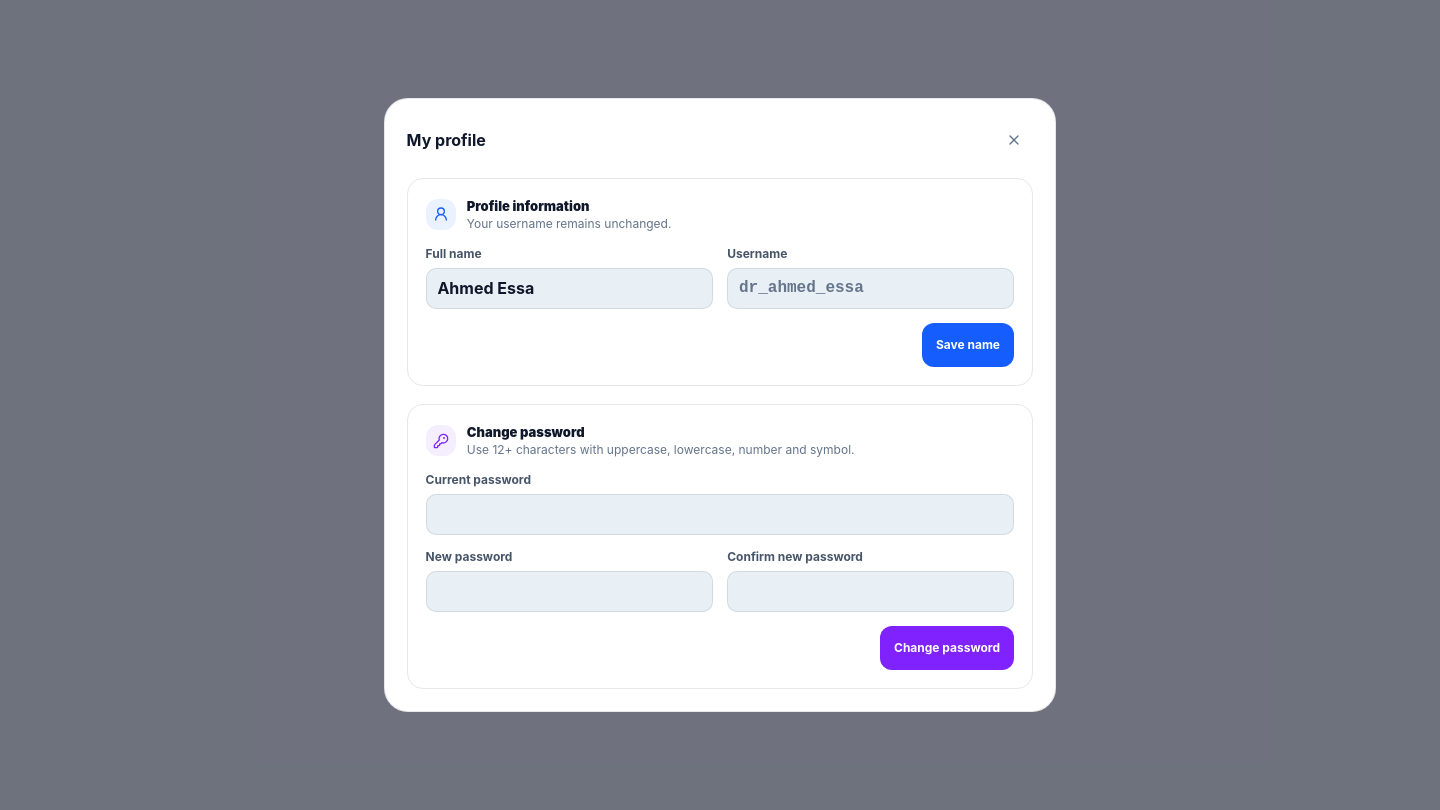
Test: ProfileSettingsModal › blocks mismatched confirmation and submits matching passwords
The width and height of the screenshot is (1440, 810).
Type "SecurePassword123!" into the password field labelled "Current password".
click(720, 514); type("SecurePassword123!")  # box [426,494,1014,535]
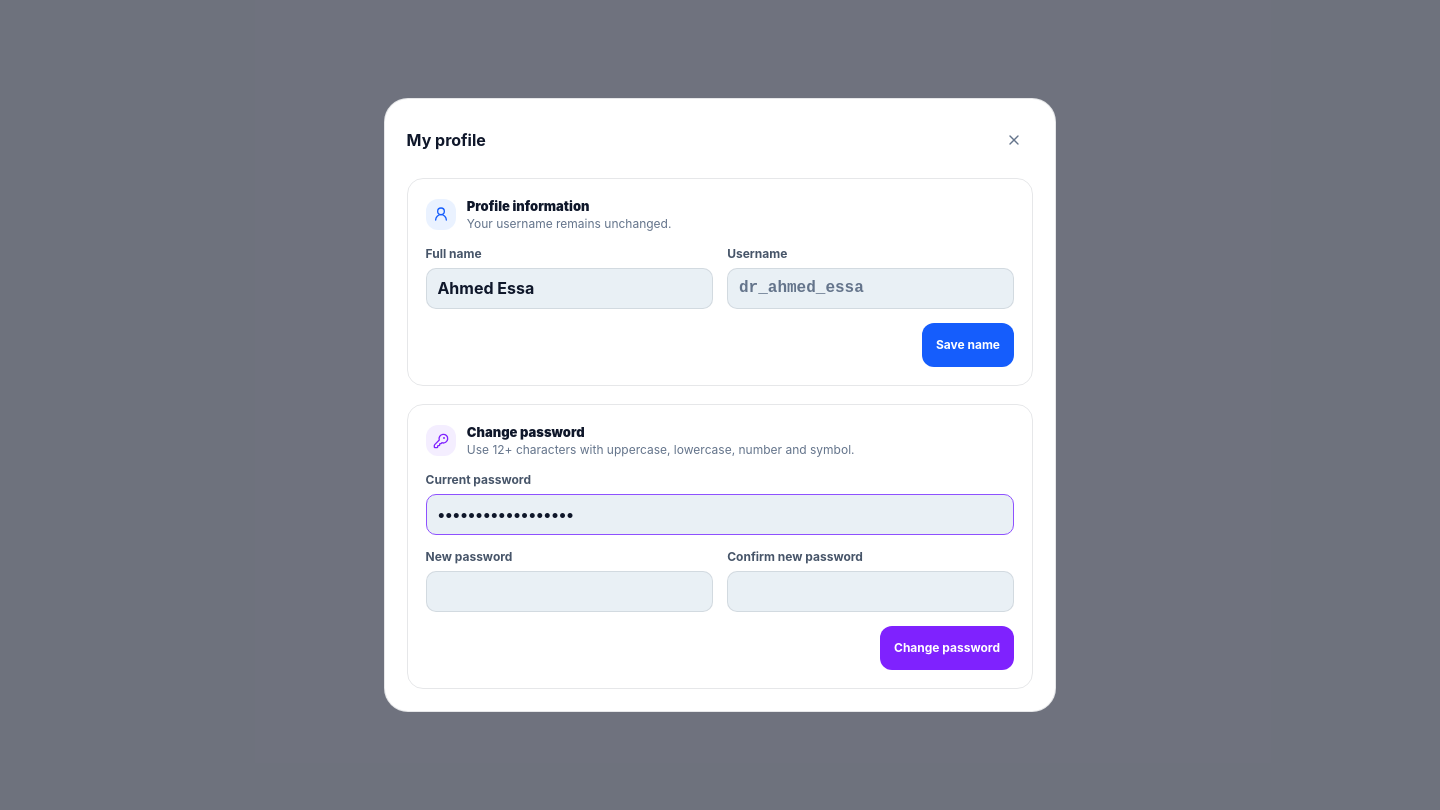
Type "ChangedPassword456!" into the password field labelled "New password".
click(569, 591); type("ChangedPassword456!")  # box [426,571,713,612]
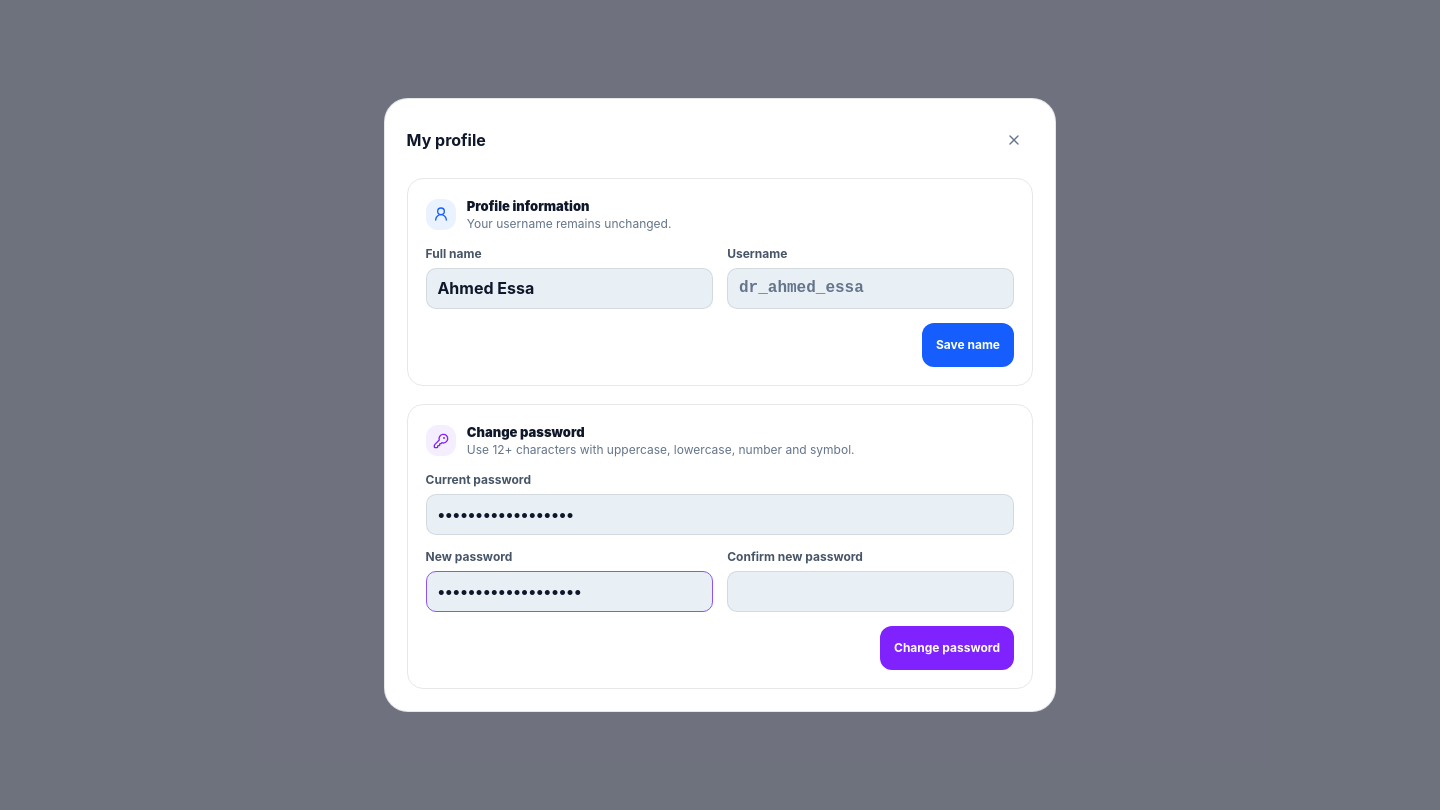
Type "DifferentPassword789!" into the password field labelled "Confirm new password".
click(871, 591); type("DifferentPassword789!")  # box [727,571,1014,612]
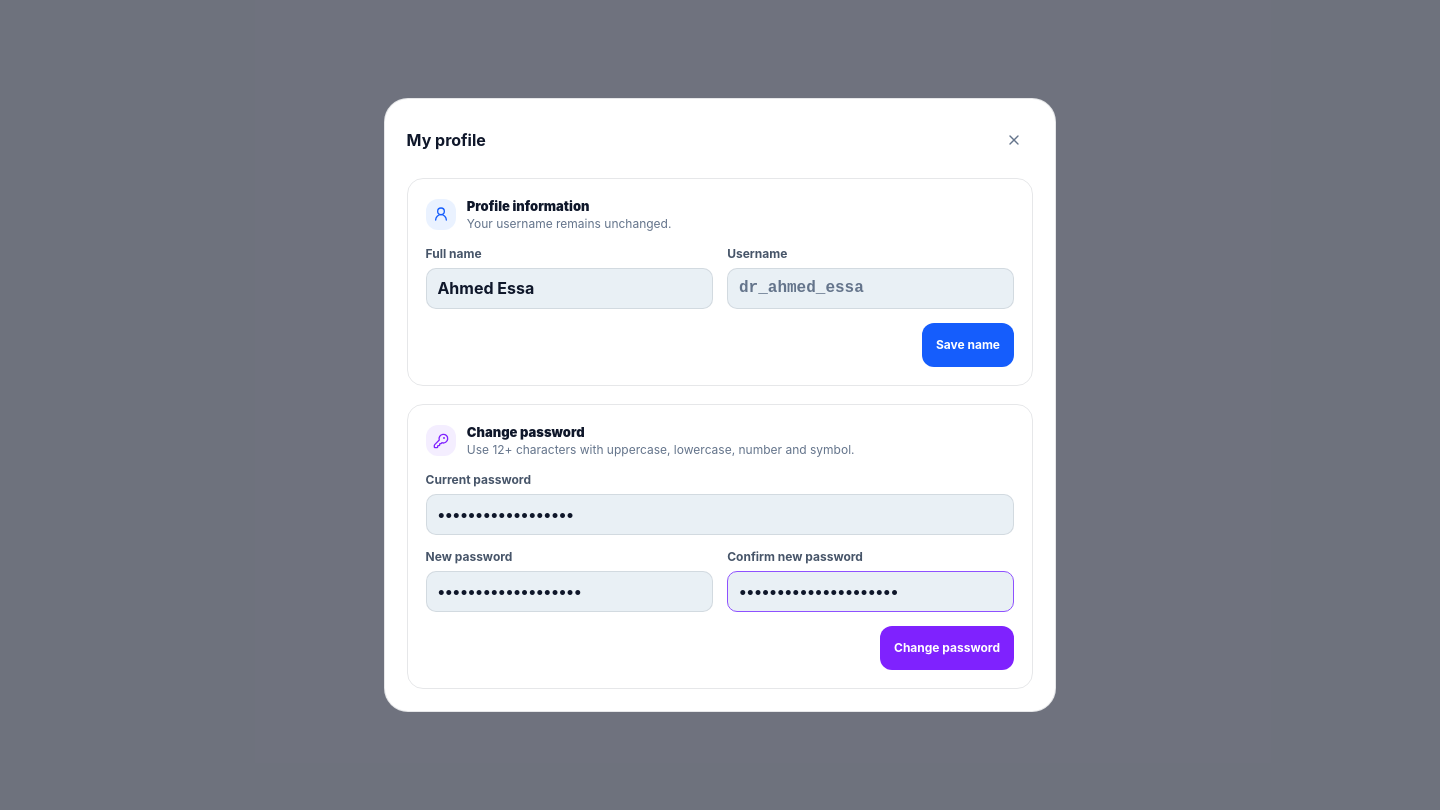
Click the button "Change password".
click(947, 648)  # box [880,626,1014,670]
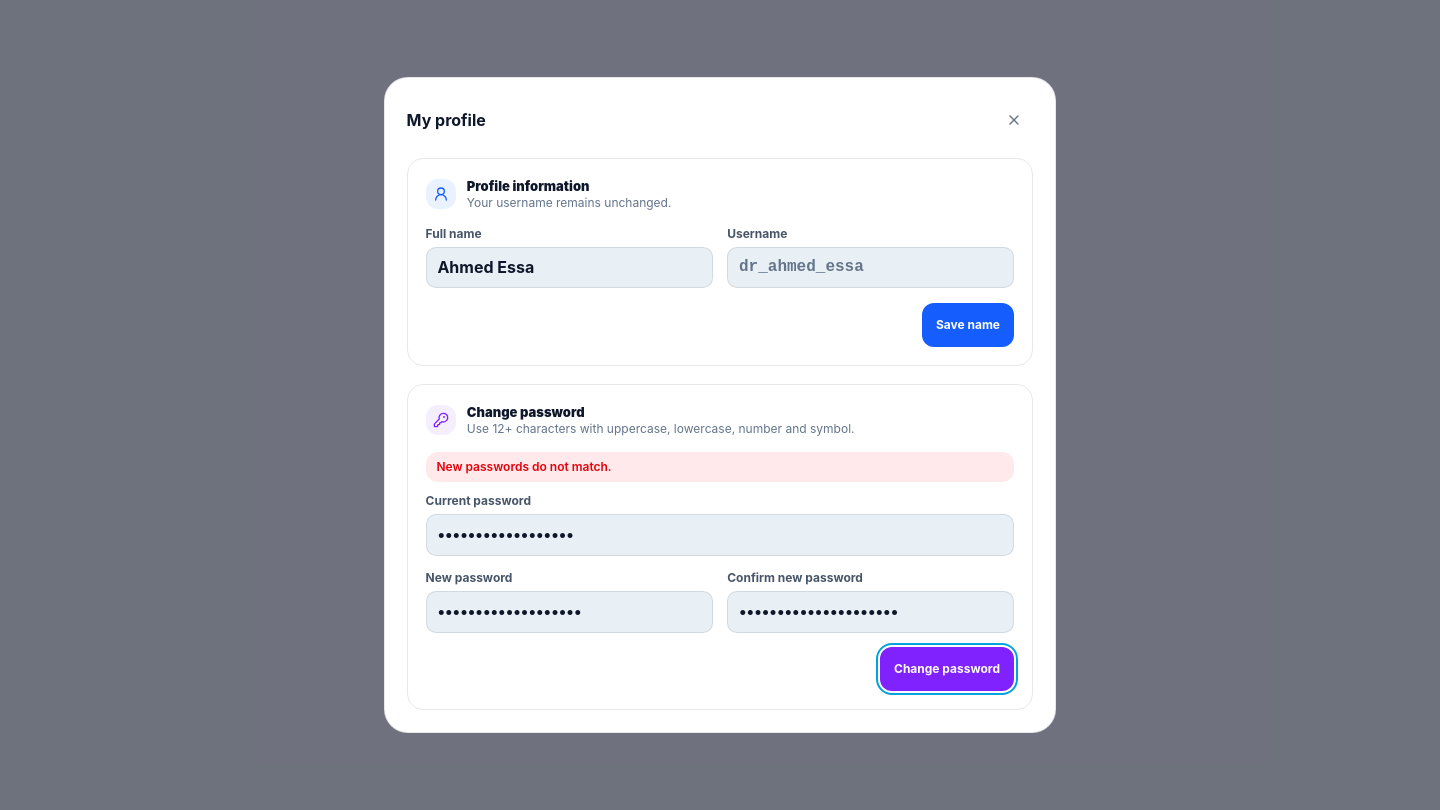
Check: the text "New passwords do not match." is shown, box [426,452,1014,482]
Type "ChangedPassword456!" into the password field labelled "Confirm new password".
click(871, 612); type("ChangedPassword456!")  # box [727,591,1014,633]
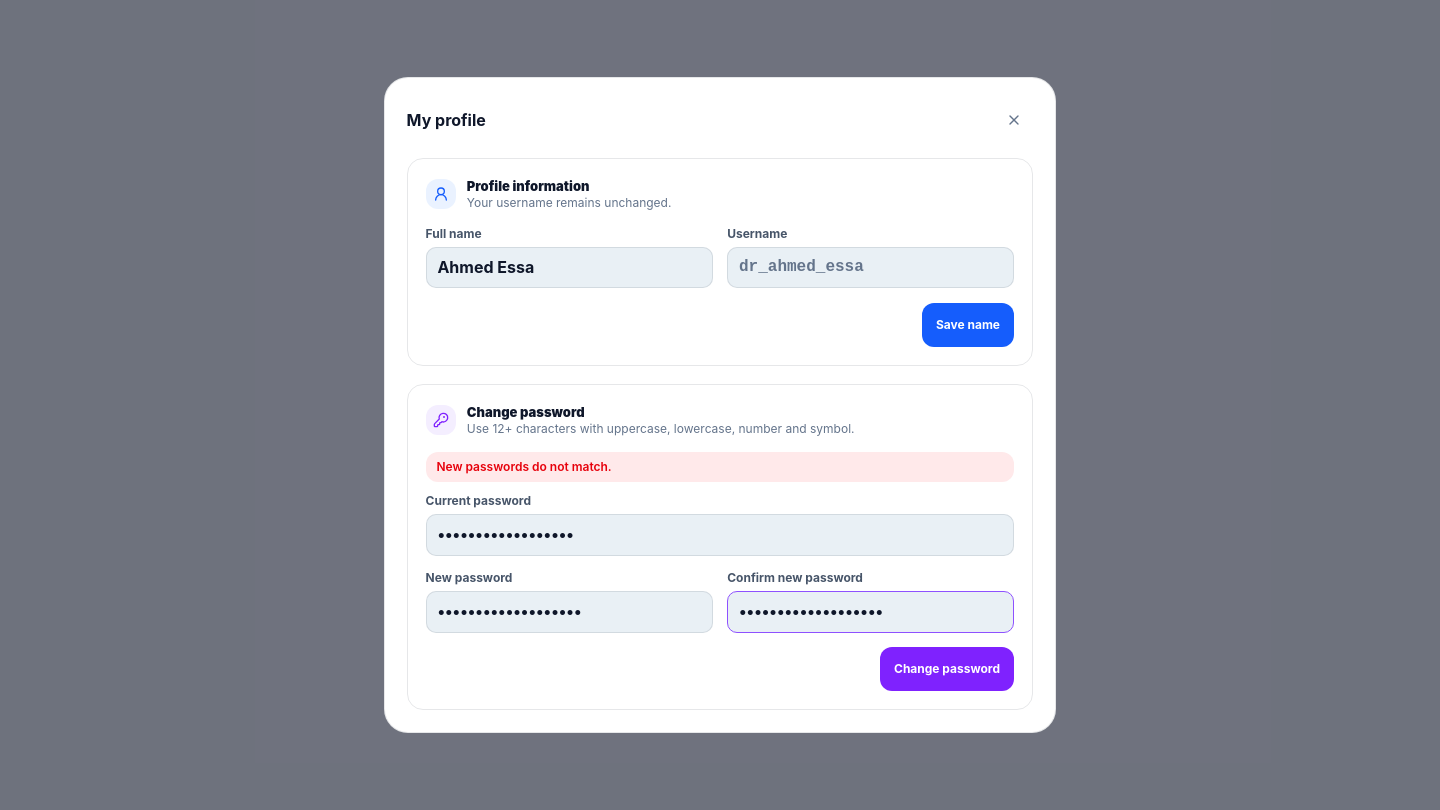
Click the button "Change password".
click(947, 669)  # box [880,647,1014,691]
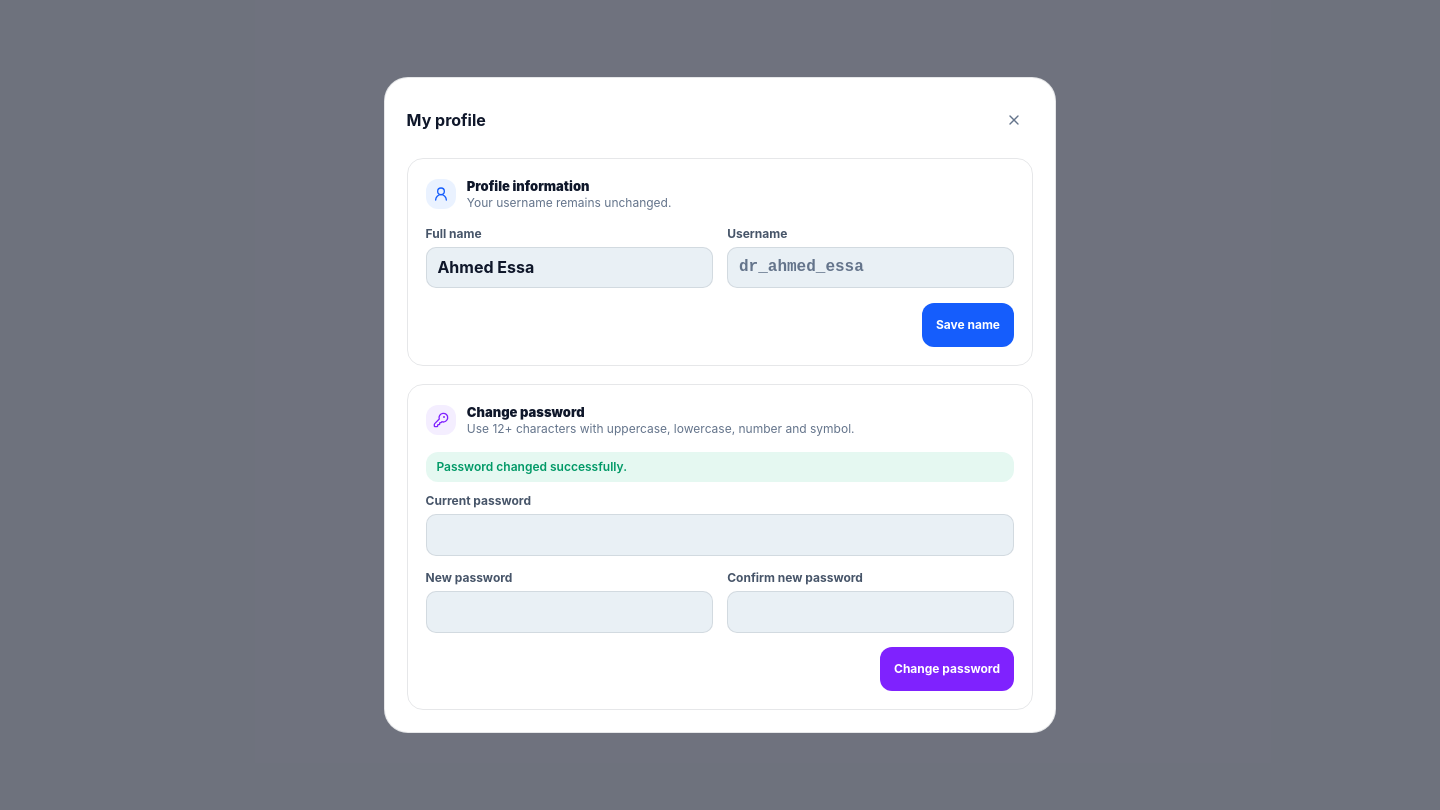
Check: the text "Password changed successfully." is shown, box [426,452,1014,482]
